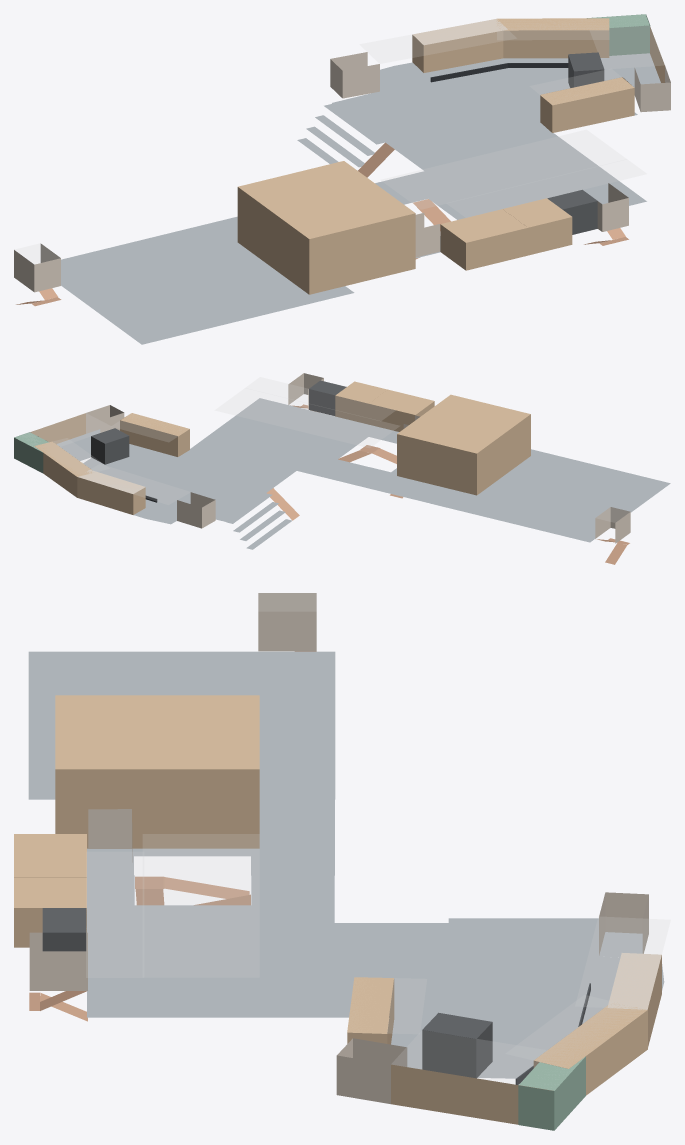
3 renders of one model, top to bottom at view 1: azimuth 30°, elevation 25°; view 2: azimuth 150°, elevation 25°; view 3: azimuth 270°, elevation 25°, orthographic. The views are drawn at different scales.
Visible parts, largest first — view 1: 平面.003, 平面.002, 立方體.048, 立方體.169, 立方體.095, 平面.004, 立方體.168, 立方體.114, 立方體.174, 平面, 立方體.108, 立方體.088 (+24 smaller); view 2: 平面.003, 平面.002, 立方體.048, 立方體.169, 平面.004, 立方體.168, 立方體.095, 平面, 平面.001, 立方體.108, 立方體.174, 立方體.088 (+20 smaller); view 3: 平面.003, 立方體.048, 平面.002, 立方體.169, 平面.004, 平面.001, 立方體.168, 平面, 立方體.063, 立方體.176, 立方體.170, 立方體.220 (+22 smaller).
Boxes of the visible parts, x1,y1,x2,y2 form: 平面.003: [332, 70, 646, 205]; 平面.002: [61, 216, 354, 344]; 立方體.048: [237, 161, 415, 294]; 立方體.169: [381, 130, 625, 208]; 立方體.095: [440, 209, 527, 270]; 平面.004: [375, 155, 525, 238]; 立方體.168: [447, 159, 645, 217]; 立方體.114: [503, 30, 609, 58]; 立方體.174: [540, 77, 634, 132]; 平面: [474, 68, 637, 126]; 立方體.108: [412, 30, 503, 72]; 立方體.088: [503, 198, 572, 255]; 平面.003: [141, 398, 359, 521]; 平面.002: [430, 449, 670, 542]; 立方體.048: [397, 394, 530, 495]; 立方體.169: [215, 388, 398, 447]; 平面.004: [247, 410, 398, 483]; 立方體.168: [246, 377, 394, 420]; 立方體.095: [368, 389, 434, 431]; 平面: [83, 444, 181, 485]; 平面.001: [348, 467, 532, 503]; 立方體.108: [77, 477, 145, 514]; 立方體.174: [120, 416, 189, 456]; 立方體.088: [335, 381, 387, 424]; 平面.003: [87, 923, 600, 1017]; 立方體.048: [55, 695, 259, 848]; 平面.002: [28, 651, 335, 799]; 立方體.169: [143, 834, 258, 976]; 平面.004: [87, 875, 334, 969]; 平面.001: [144, 751, 334, 875]; 立方體.168: [86, 852, 143, 977]; 平面: [391, 1017, 580, 1078]; 立方體.063: [391, 1064, 553, 1124]; 立方體.176: [392, 1030, 545, 1084]; 立方體.170: [576, 917, 670, 1007]; 立方體.220: [422, 1012, 492, 1078].
Size of the model in its own units: 80.7 by 9.41 by 44.99.
